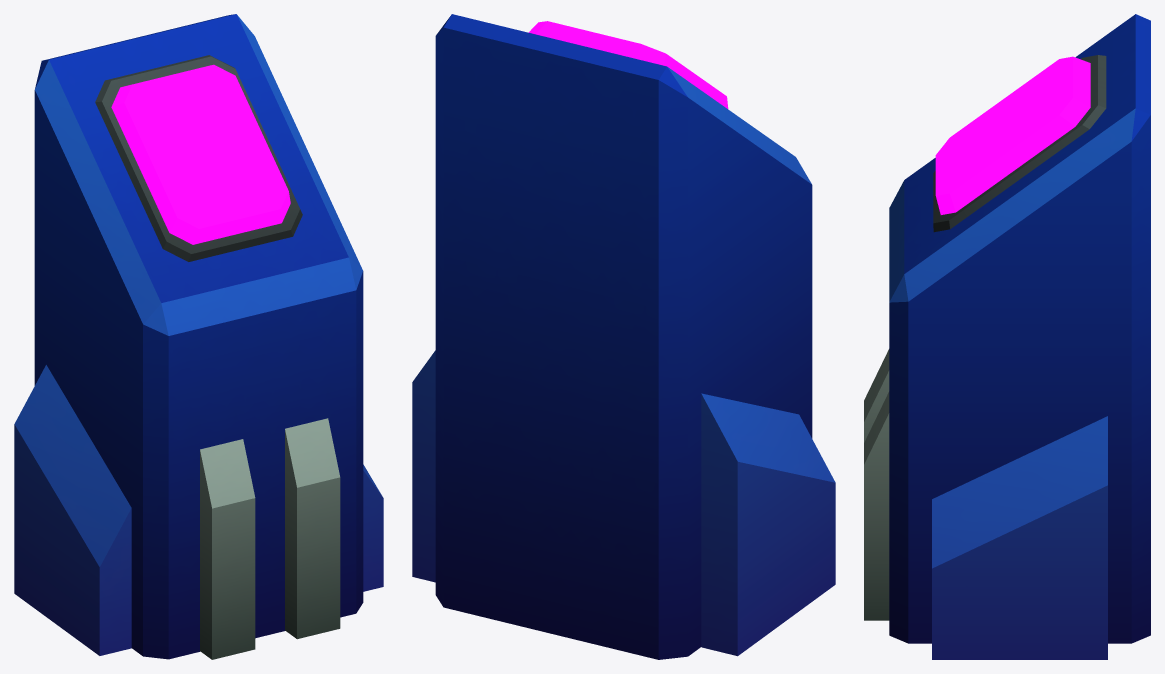
Rendered from switch_002.fbx.
The picture shows the model from 3 angles, left to right: view 1: azimuth 30°, elevation 25°; view 2: azimuth 150°, elevation 25°; view 3: azimuth 270°, elevation 25°; orthographic projection. The views are drawn at different scales.
Visible parts, largest first — view 1: switch.002; view 2: switch.002; view 3: switch.002.
Boxes of the visible parts, x1,y1,x2,y2 form: switch.002: (14,14,383,659); switch.002: (412,14,835,659); switch.002: (864,14,1150,659).
Size of the model in its own units: 114 by 196 by 96.57.
